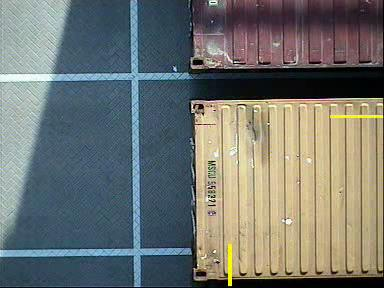groundmarker_2: (102, 150, 180, 201)
